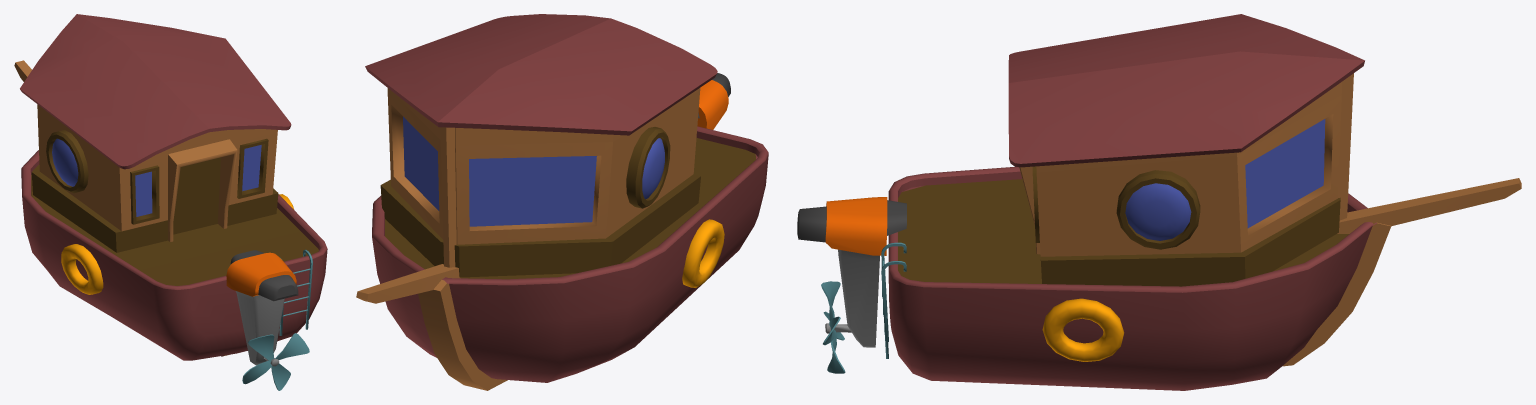
File: Boats.fbx
3 views of the same model, side by side, from view 1: azimuth 30°, elevation 25°; view 2: azimuth 150°, elevation 25°; view 3: azimuth 270°, elevation 25° (orthographic). The views are drawn at different scales.
Parts seen in each view (by area): view 1: Boat_01; view 2: Boat_01; view 3: Boat_01.
Part boxes in pixels (x1,y1,x2,y2): Boat_01: (14,14,327,390); Boat_01: (356,14,768,390); Boat_01: (797,14,1521,390).
Size of the model in its own units: 7.13 by 7.48 by 15.45.
